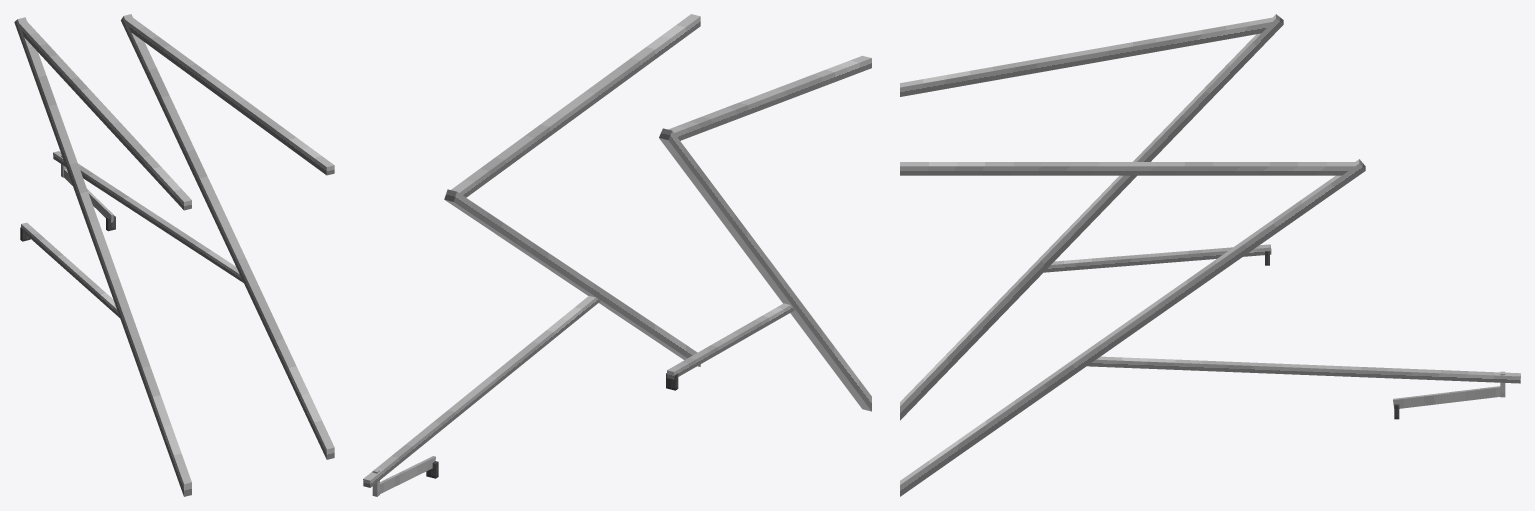
File: cantilever_outer_8px.obj
The picture shows the model from 3 angles, left to right: view 1: azimuth 30°, elevation 25°; view 2: azimuth 150°, elevation 25°; view 3: azimuth 270°, elevation 25°; orthographic projection. The views are drawn at different scales.
Parts seen in each view (by area): view 1: d24752c0-845b-4f52-b119-fba8904d18d6, f6a5edb7-2192-4293-b279-bffe01b5d947, 699046cc-40bf-4549-958e-56037fb6ccd3, 2c8a0ad4-95a3-4985-a3d1-79afccec66aa, 5450b889-ed65-4fa4-b405-62521eeff9b9, 169408fb-d208-42bb-9b94-a29f56c0a6c2; view 2: d24752c0-845b-4f52-b119-fba8904d18d6, 699046cc-40bf-4549-958e-56037fb6ccd3, f6a5edb7-2192-4293-b279-bffe01b5d947, 5450b889-ed65-4fa4-b405-62521eeff9b9, 2c8a0ad4-95a3-4985-a3d1-79afccec66aa, 169408fb-d208-42bb-9b94-a29f56c0a6c2, 57c70029-f5e7-4faf-a1e1-c1247cd46901; view 3: f6a5edb7-2192-4293-b279-bffe01b5d947, d24752c0-845b-4f52-b119-fba8904d18d6, 699046cc-40bf-4549-958e-56037fb6ccd3, 2c8a0ad4-95a3-4985-a3d1-79afccec66aa, 5450b889-ed65-4fa4-b405-62521eeff9b9, 169408fb-d208-42bb-9b94-a29f56c0a6c2, 57c70029-f5e7-4faf-a1e1-c1247cd46901.
Boxes of the visible parts, box(x1,y1,x2,y2) form: d24752c0-845b-4f52-b119-fba8904d18d6: box(14, 17, 191, 496); f6a5edb7-2192-4293-b279-bffe01b5d947: box(121, 14, 334, 459); 699046cc-40bf-4549-958e-56037fb6ccd3: box(125, 18, 334, 175); 2c8a0ad4-95a3-4985-a3d1-79afccec66aa: box(19, 21, 191, 210); 5450b889-ed65-4fa4-b405-62521eeff9b9: box(53, 151, 243, 282); 169408fb-d208-42bb-9b94-a29f56c0a6c2: box(21, 222, 119, 317); d24752c0-845b-4f52-b119-fba8904d18d6: box(659, 128, 871, 411); 699046cc-40bf-4549-958e-56037fb6ccd3: box(451, 14, 700, 197); f6a5edb7-2192-4293-b279-bffe01b5d947: box(444, 189, 700, 366); 5450b889-ed65-4fa4-b405-62521eeff9b9: box(363, 296, 600, 487); 2c8a0ad4-95a3-4985-a3d1-79afccec66aa: box(668, 55, 871, 140); 169408fb-d208-42bb-9b94-a29f56c0a6c2: box(666, 303, 794, 379); 57c70029-f5e7-4faf-a1e1-c1247cd46901: box(380, 456, 435, 493); f6a5edb7-2192-4293-b279-bffe01b5d947: box(900, 159, 1365, 496); d24752c0-845b-4f52-b119-fba8904d18d6: box(900, 14, 1283, 420); 699046cc-40bf-4549-958e-56037fb6ccd3: box(900, 162, 1355, 175); 2c8a0ad4-95a3-4985-a3d1-79afccec66aa: box(900, 17, 1272, 96); 5450b889-ed65-4fa4-b405-62521eeff9b9: box(1087, 356, 1520, 383); 169408fb-d208-42bb-9b94-a29f56c0a6c2: box(1044, 244, 1271, 272); 57c70029-f5e7-4faf-a1e1-c1247cd46901: box(1393, 386, 1500, 408).
Size of the model in its own units: 1.19 by 2.68 by 3.75.
